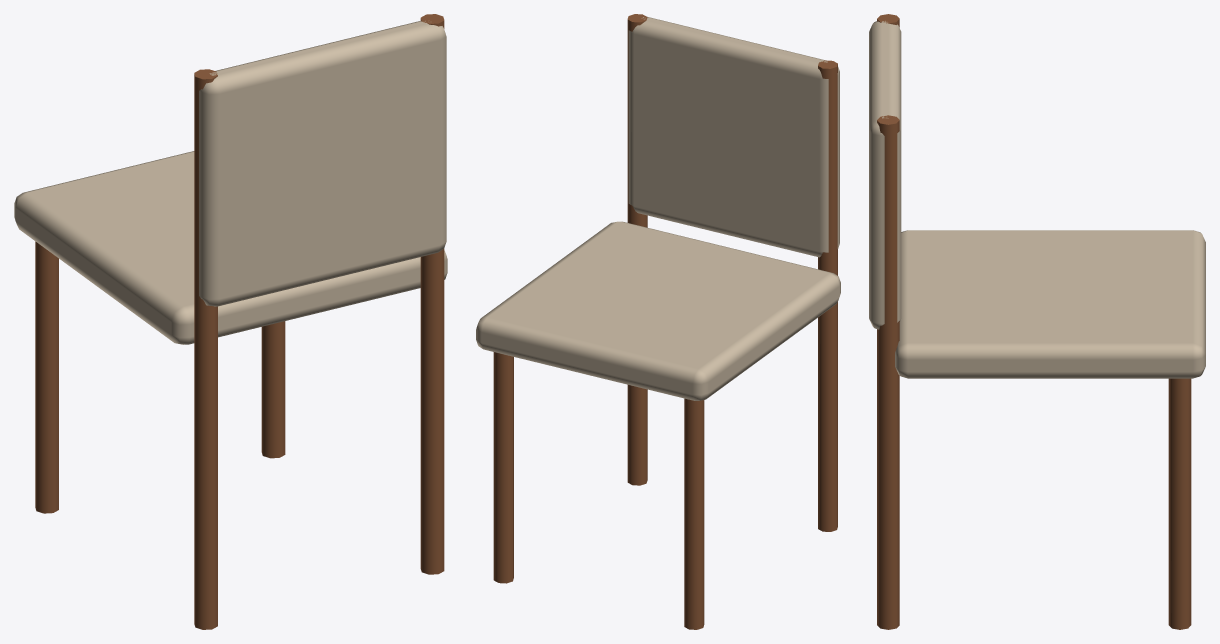
The picture shows the model from 3 angles, left to right: view 1: azimuth 30°, elevation 25°; view 2: azimuth 150°, elevation 25°; view 3: azimuth 270°, elevation 25°; orthographic projection. The views are drawn at different scales.
Visible parts, largest first — view 1: back, seat, leg-back-left, leg-back-right, leg-front-left, leg-front-right; view 2: seat, back, leg-back-left, leg-front-left, leg-front-right, leg-back-right; view 3: seat, leg-back-right, back, leg-front-right.
Part boxes in pixels (left/top/right/bottom): back: left=199, top=21, right=446, bottom=306; seat: left=14, top=151, right=447, bottom=344; leg-back-left: left=194, top=69, right=217, bottom=629; leg-back-right: left=420, top=14, right=444, bottom=574; leg-front-left: left=35, top=241, right=58, bottom=513; leg-front-right: left=261, top=321, right=285, bottom=458; seat: left=476, top=221, right=840, bottom=400; back: left=628, top=16, right=839, bottom=257; leg-back-left: left=818, top=60, right=837, bottom=531; leg-front-left: left=684, top=398, right=704, bottom=629; leg-front-right: left=493, top=352, right=513, bottom=583; leg-back-right: left=627, top=14, right=647, bottom=485; seat: left=895, top=230, right=1205, bottom=378; leg-back-right: left=877, top=115, right=899, bottom=629; back: left=869, top=21, right=901, bottom=329; leg-front-right: left=1168, top=378, right=1191, bottom=629.
Size of the model in its own units: 0.45 by 0.86 by 0.52.
